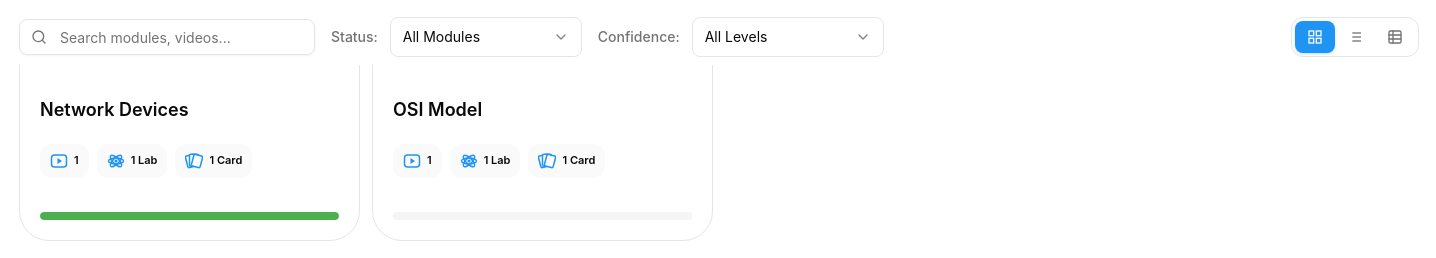
Test: ModuleList › should filter modules by search query
Type "OSI" into the search field with placeholder "Search modules, videos..." at (167, 37), box [19,19,315,55]
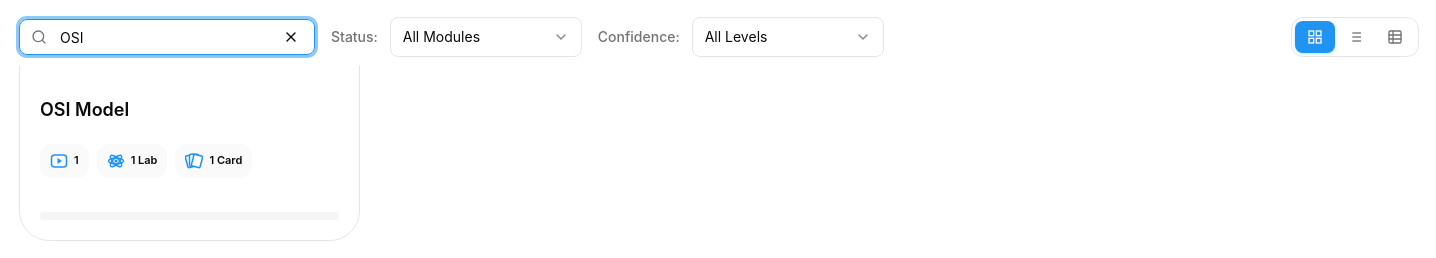
Expected: the heading "OSI Model" is shown, [40,99,129,120]
Expected: the heading "Network Devices" is gone
